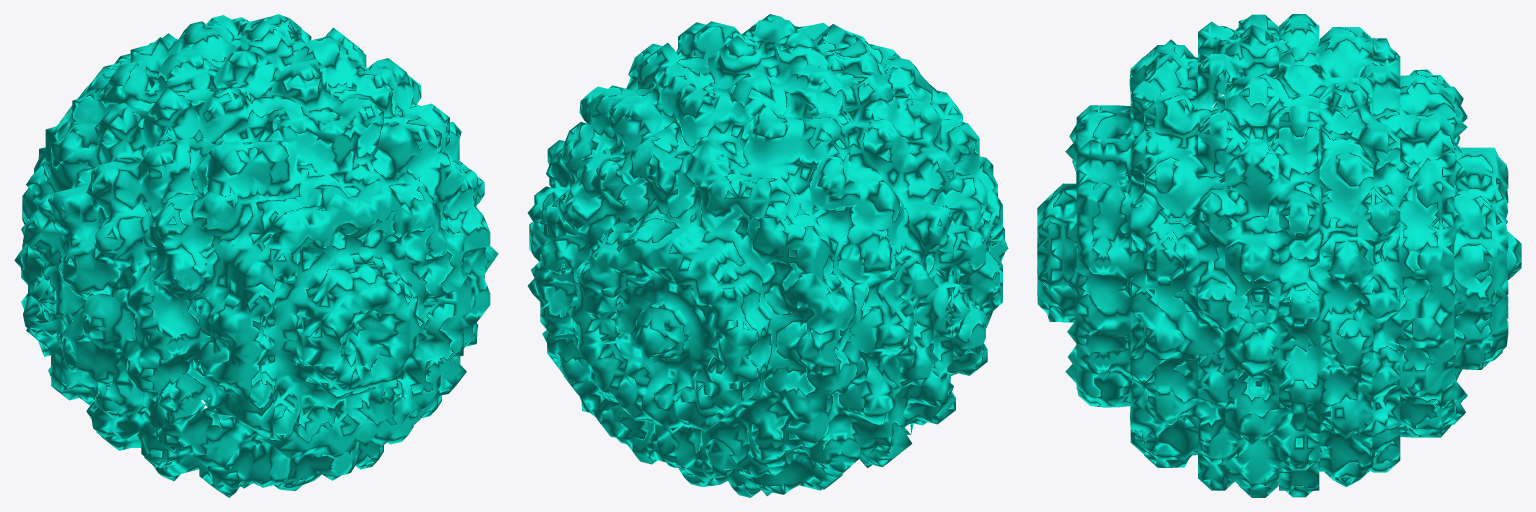
Rendered from ifs_mandelbulb_raymarched_mesh_1780734781608.glb.
The picture shows the model from 3 angles, left to right: view 1: azimuth 30°, elevation 25°; view 2: azimuth 150°, elevation 25°; view 3: azimuth 270°, elevation 25°; orthographic projection.
Parts seen in each view (by area): view 1: mandelbulb_p16; view 2: mandelbulb_p16; view 3: mandelbulb_p16.
Part boxes in pixels (bbox=[...]): mandelbulb_p16: bbox=[14, 14, 498, 497]; mandelbulb_p16: bbox=[527, 14, 1008, 497]; mandelbulb_p16: bbox=[1037, 14, 1521, 497].
Bounding box in the file's own units: 2.11 × 2.11 × 2.11.
